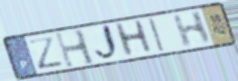H: (53, 27, 98, 70), (112, 18, 155, 59), (170, 9, 213, 49)
I: (146, 16, 167, 54)
J: (93, 22, 122, 63)
Z: (26, 35, 66, 71)
